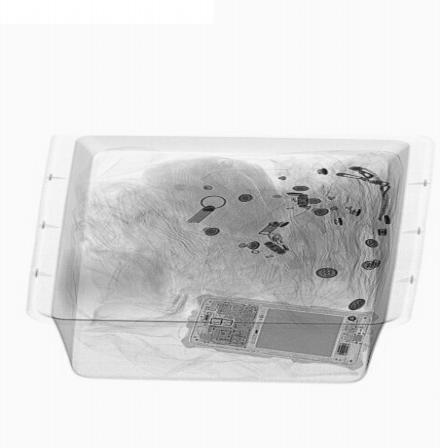Lighter: (257, 232, 306, 270)
